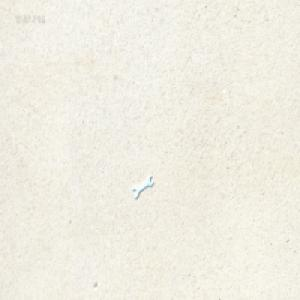Wrench: (132, 174, 154, 200)
